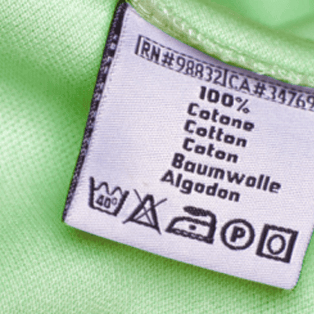do_not_bleach: (131, 192, 164, 232)
